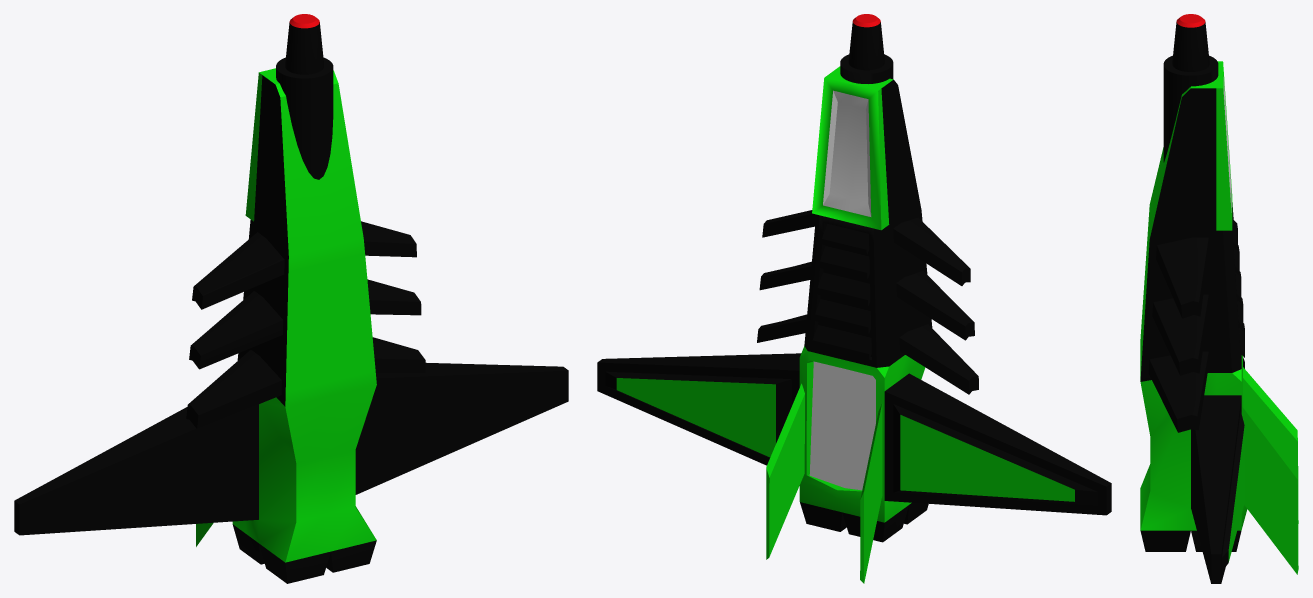
Rendered from Flyer1.fbx.
The picture shows the model from 3 angles, left to right: view 1: azimuth 30°, elevation 25°; view 2: azimuth 150°, elevation 25°; view 3: azimuth 270°, elevation 25°; orthographic projection. The views are drawn at different scales.
Parts seen in each view (by area): view 1: Cube; view 2: Cube; view 3: Cube.
Boxes of the visible parts, <box> form: Cube: <box>14,14,568,583</box>; Cube: <box>597,14,1111,583</box>; Cube: <box>1140,14,1298,583</box>.
Bounding box in the file's own units: 1200 × 1161 × 313.
